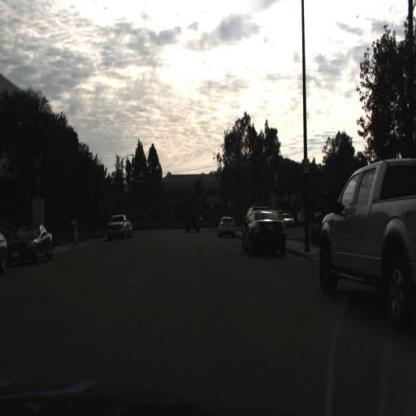car: (318, 159, 416, 316), (242, 203, 293, 263), (241, 209, 288, 257), (12, 220, 56, 269), (9, 223, 57, 267), (106, 211, 134, 243), (220, 215, 239, 241), (186, 214, 204, 241)
